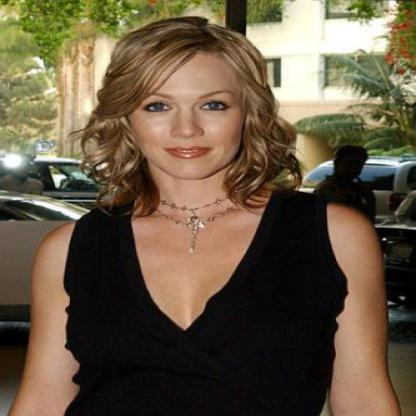face: (125, 29, 252, 182)
